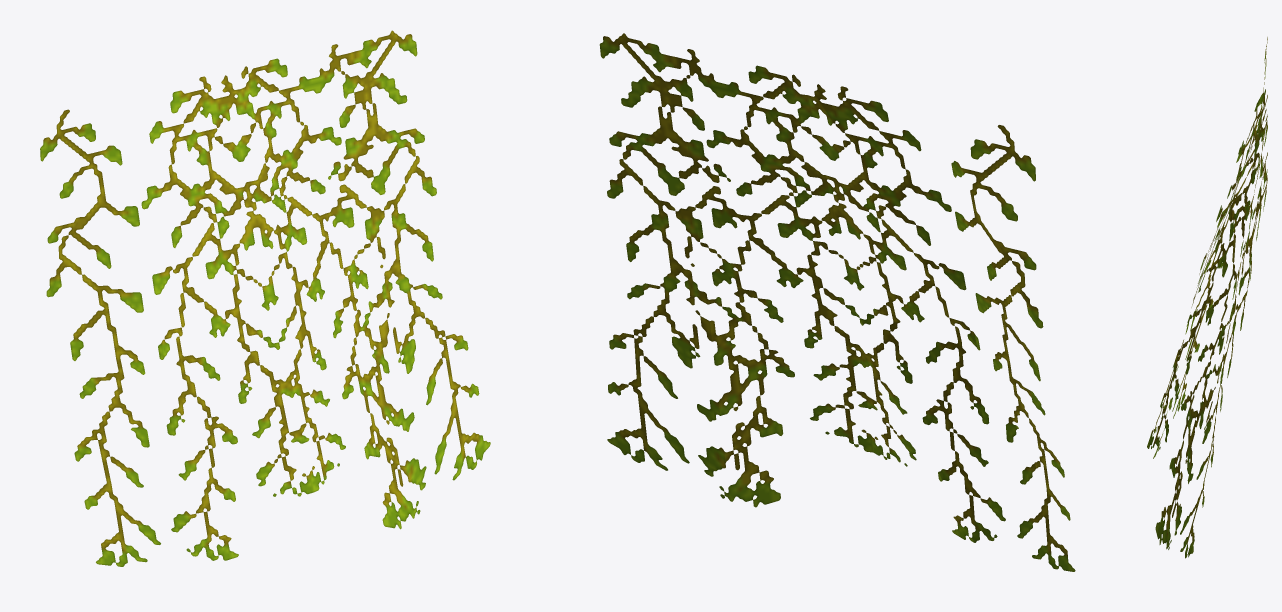
File: Vines.obj
3 renders of one model, left to right at view 1: azimuth 30°, elevation 25°; view 2: azimuth 150°, elevation 25°; view 3: azimuth 270°, elevation 25°, orthographic. The views are drawn at different scales.
Parts seen in each view (by area): view 1: Vines_Plane.006; view 2: Vines_Plane.006; view 3: Vines_Plane.006.
Boxes of the visible parts, x1=… form: Vines_Plane.006: x1=40, y1=30, x2=490, y2=566; Vines_Plane.006: x1=599, y1=33, x2=1075, y2=571; Vines_Plane.006: x1=1147, y1=37, x2=1267, y2=558.
Size of the model in its own units: 2.05 by 2.1 by 0.6099.
